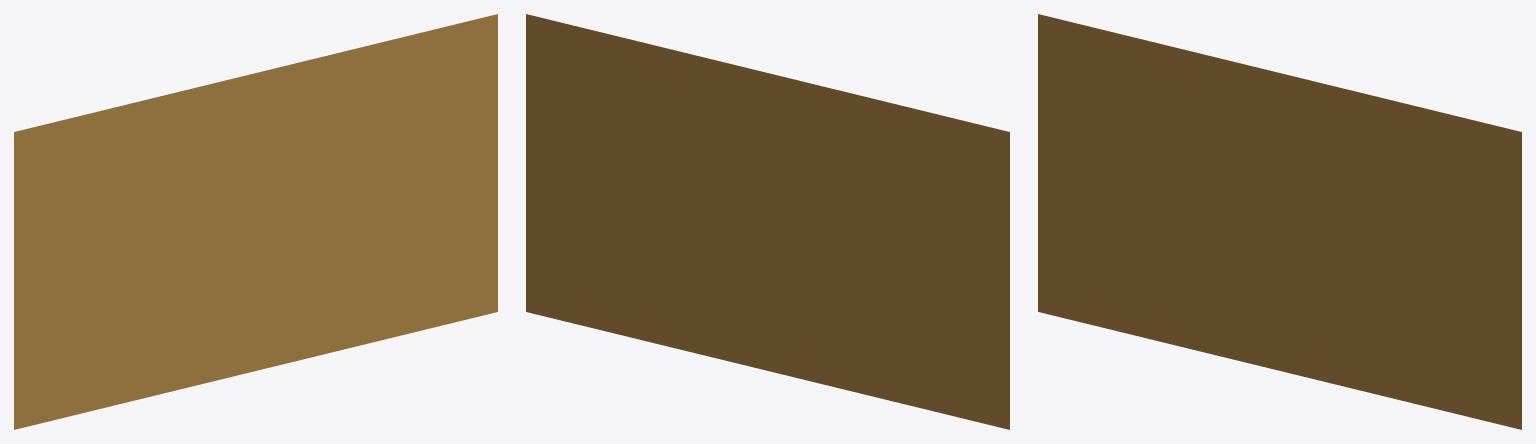
File: Itr_Wall_Color_05.FBX
The picture shows the model from 3 angles, left to right: view 1: azimuth 30°, elevation 25°; view 2: azimuth 150°, elevation 25°; view 3: azimuth 330°, elevation 25°; orthographic projection.
Parts seen in each view (by area): view 1: Itr_Wall_Color_05; view 2: Itr_Wall_Color_05; view 3: Itr_Wall_Color_05.
Part boxes in pixels (x1,y1,x2,y2): Itr_Wall_Color_05: (14, 14, 497, 429); Itr_Wall_Color_05: (526, 14, 1009, 429); Itr_Wall_Color_05: (1038, 14, 1521, 429).
Bounding box in the file's own units: 118 × 69.49 × 3.05e-05.
